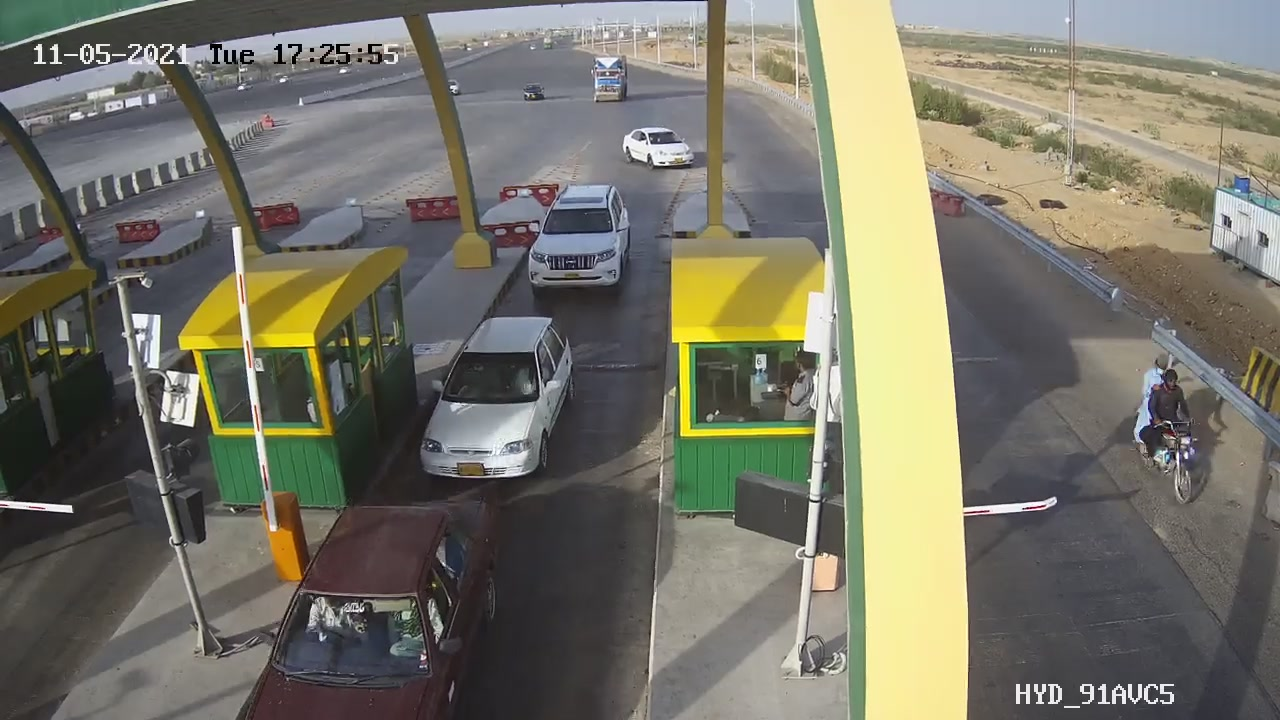F1: (409, 299, 594, 496), (514, 172, 647, 316)
